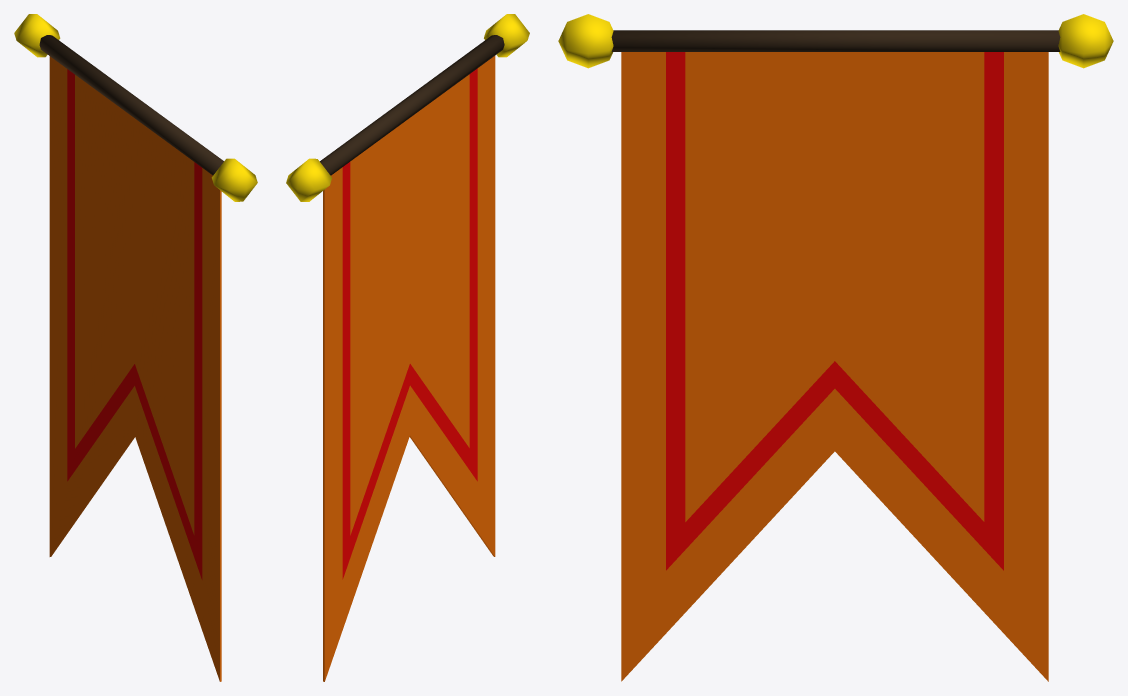
The model's file is Flag_1.fbx.
3 renders of one model, left to right at view 1: azimuth 30°, elevation 25°; view 2: azimuth 150°, elevation 25°; view 3: azimuth 270°, elevation 25°, orthographic. The views are drawn at different scales.
Visible parts, largest first — view 1: Flag_1; view 2: Flag_1; view 3: Flag_1.
Boxes of the visible parts, <box> form: Flag_1: <box>14,14,257,681</box>; Flag_1: <box>286,14,529,681</box>; Flag_1: <box>558,14,1113,681</box>.
Bounding box in the file's own units: 0.1188 × 1.46 × 1.1.
